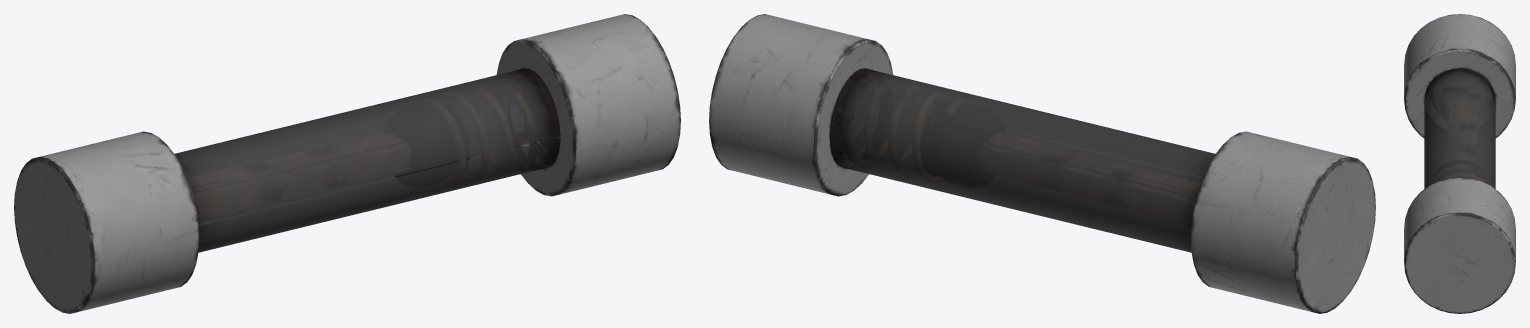
The model's file is fuse.glb.
3 renders of one model, left to right at view 1: azimuth 30°, elevation 25°; view 2: azimuth 150°, elevation 25°; view 3: azimuth 270°, elevation 25°, orthographic. The views are drawn at different scales.
Parts seen in each view (by area): view 1: Cylinder; view 2: Cylinder; view 3: Cylinder.
Part boxes in pixels (bbox=[...]): Cylinder: bbox=[14, 14, 680, 313]; Cylinder: bbox=[709, 14, 1375, 313]; Cylinder: bbox=[1404, 14, 1515, 313].
Size of the model in its own units: 11 by 2.6 by 2.6.
Materials: 2 (2 with a texture image).
